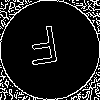F: (25, 25, 63, 75)
